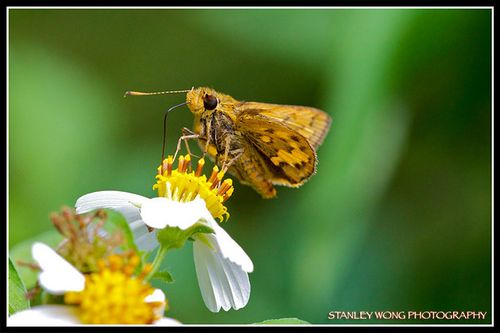Hesperiidae: (123, 84, 334, 202)
